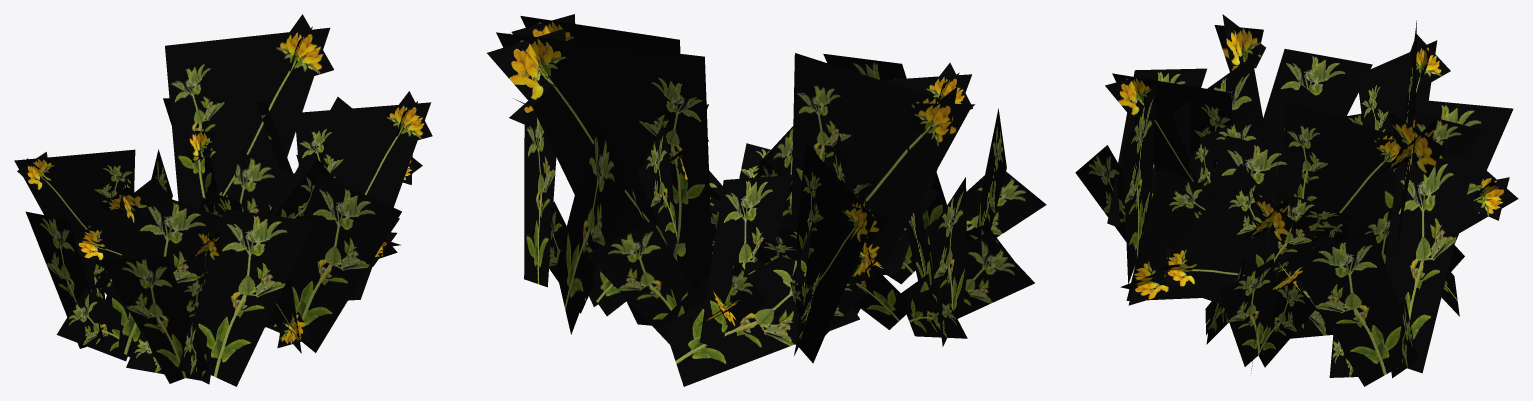
Rendered from 09_Lotus_pedunculatus_01_big_001.fbx.
3 renders of one model, left to right at view 1: azimuth 30°, elevation 25°; view 2: azimuth 150°, elevation 25°; view 3: azimuth 270°, elevation 25°, orthographic. The views are drawn at different scales.
Visible parts, largest first — view 1: 09_Lotus_pedunculatus_01.big.001; view 2: 09_Lotus_pedunculatus_01.big.001; view 3: 09_Lotus_pedunculatus_01.big.001.
Boxes of the visible parts, x1,y1,x2,y2 form: 09_Lotus_pedunculatus_01.big.001: (14, 14, 432, 386); 09_Lotus_pedunculatus_01.big.001: (487, 14, 1046, 386); 09_Lotus_pedunculatus_01.big.001: (1075, 14, 1518, 386).
Bounding box in the file's own units: 0.3225 × 0.1947 × 0.2626.
